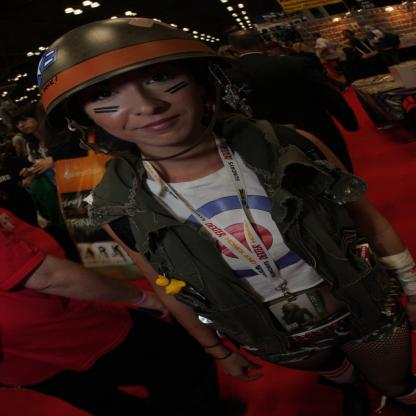Helmet: (43, 15, 228, 151)
